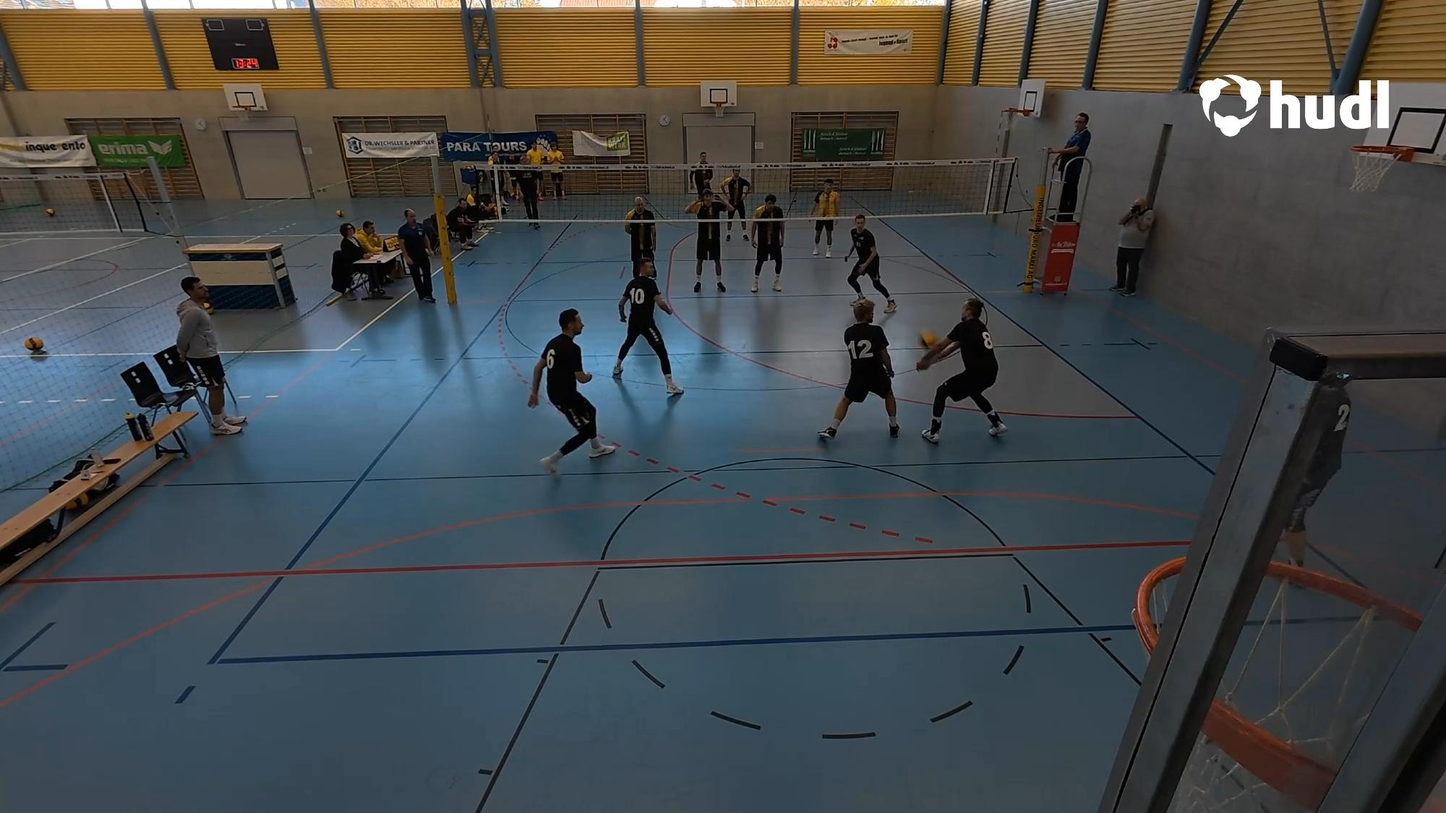Player: (526, 308, 609, 475), (819, 299, 902, 443), (612, 259, 684, 393), (845, 210, 898, 316), (685, 188, 729, 296), (748, 192, 787, 294), (621, 197, 659, 282), (723, 169, 752, 247), (812, 183, 839, 260), (688, 152, 714, 211)
Receive: (904, 294, 1011, 443)
ball: (916, 329, 941, 352)
